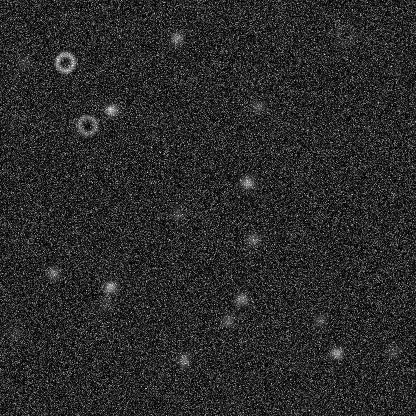Ring: (52, 50, 76, 74), (333, 22, 357, 46), (74, 113, 98, 137)
Spot: (244, 231, 260, 247), (168, 29, 184, 45), (7, 326, 23, 342), (102, 279, 118, 295), (170, 206, 186, 222), (96, 295, 112, 311), (219, 312, 235, 328), (311, 312, 327, 328), (383, 344, 399, 360), (175, 352, 191, 368), (328, 344, 344, 360), (103, 101, 119, 117), (45, 264, 61, 280), (239, 174, 255, 190), (233, 290, 249, 306), (250, 98, 266, 114), (16, 54, 32, 70)
